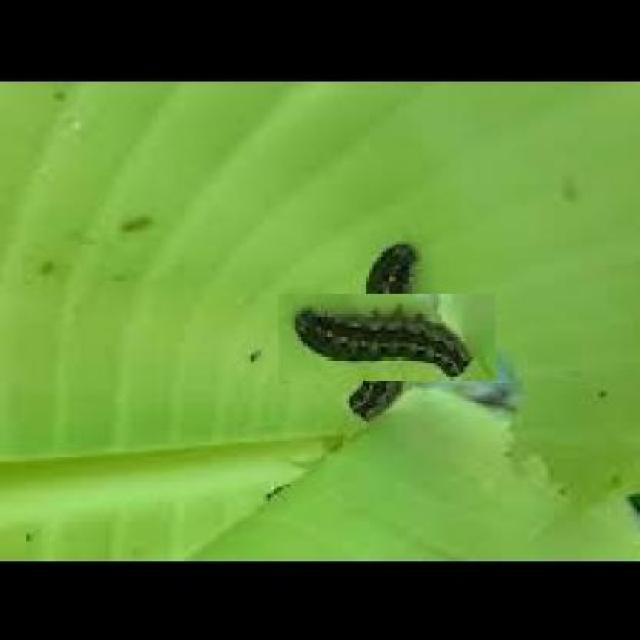Plaga: (312, 260, 466, 416)
